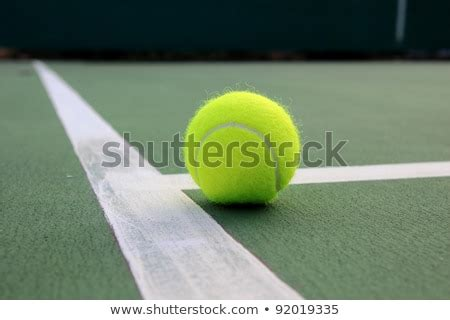tennis_ball: (183, 90, 301, 204)
